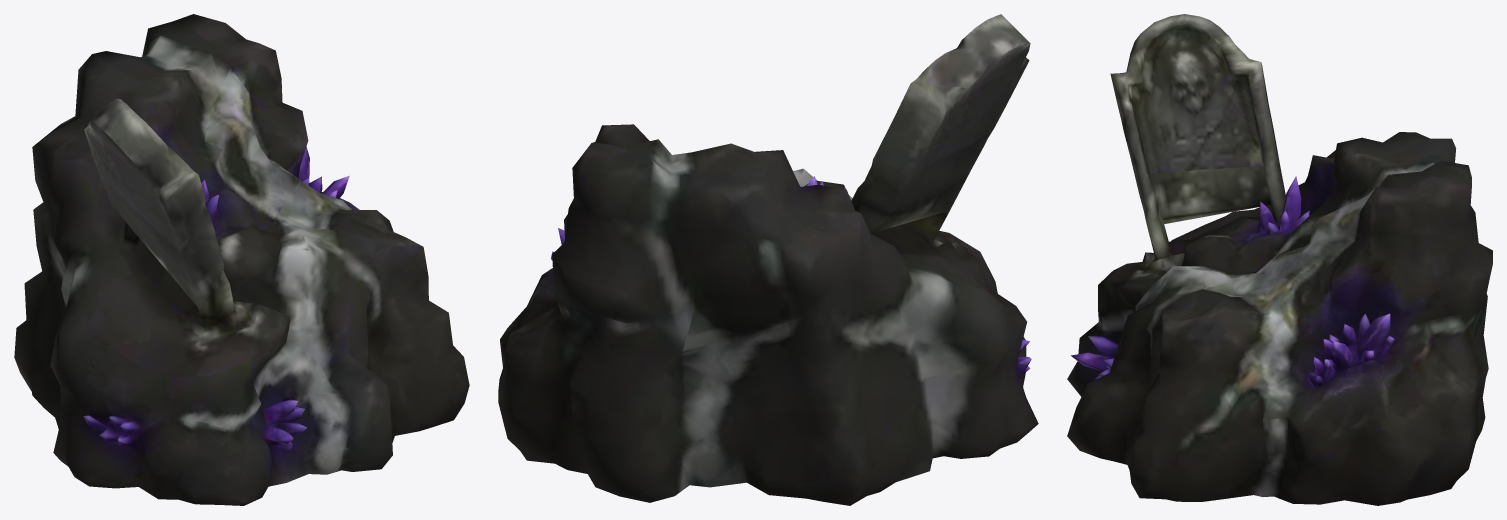
Rendered from prop_node_ore_seam_silver.glb.
The picture shows the model from 3 angles, left to right: view 1: azimuth 30°, elevation 25°; view 2: azimuth 150°, elevation 25°; view 3: azimuth 270°, elevation 25°; orthographic projection. The views are drawn at different scales.
Visible parts, largest first — view 1: tripo_node_0bf5bb75-011f-4941-bb16-5c0978e515fd; view 2: tripo_node_0bf5bb75-011f-4941-bb16-5c0978e515fd; view 3: tripo_node_0bf5bb75-011f-4941-bb16-5c0978e515fd.
Boxes of the visible parts, x1=… form: tripo_node_0bf5bb75-011f-4941-bb16-5c0978e515fd: x1=14, y1=14, x2=469, y2=505; tripo_node_0bf5bb75-011f-4941-bb16-5c0978e515fd: x1=498, y1=14, x2=1038, y2=505; tripo_node_0bf5bb75-011f-4941-bb16-5c0978e515fd: x1=1067, y1=14, x2=1492, y2=505.
Size of the model in its own units: 0.9786 by 0.8964 by 0.998.
Materials: 1 (1 with a texture image).
